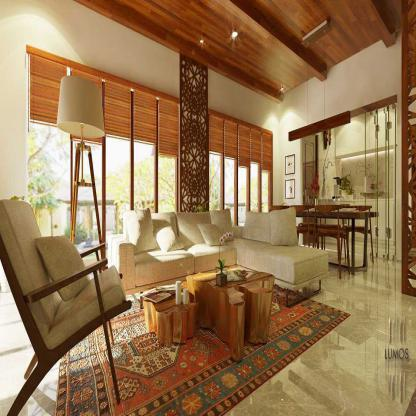buku: (42, 236, 90, 294), (270, 210, 298, 245), (155, 227, 183, 251), (199, 222, 225, 246)
kursi: (1, 193, 125, 402)
lampu-: (57, 79, 107, 242)
sova: (114, 210, 330, 298)
